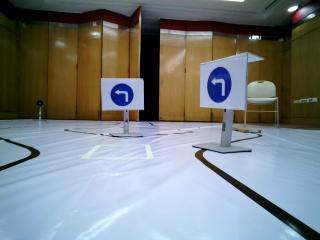left: (200, 60, 247, 107), (102, 79, 141, 108)
